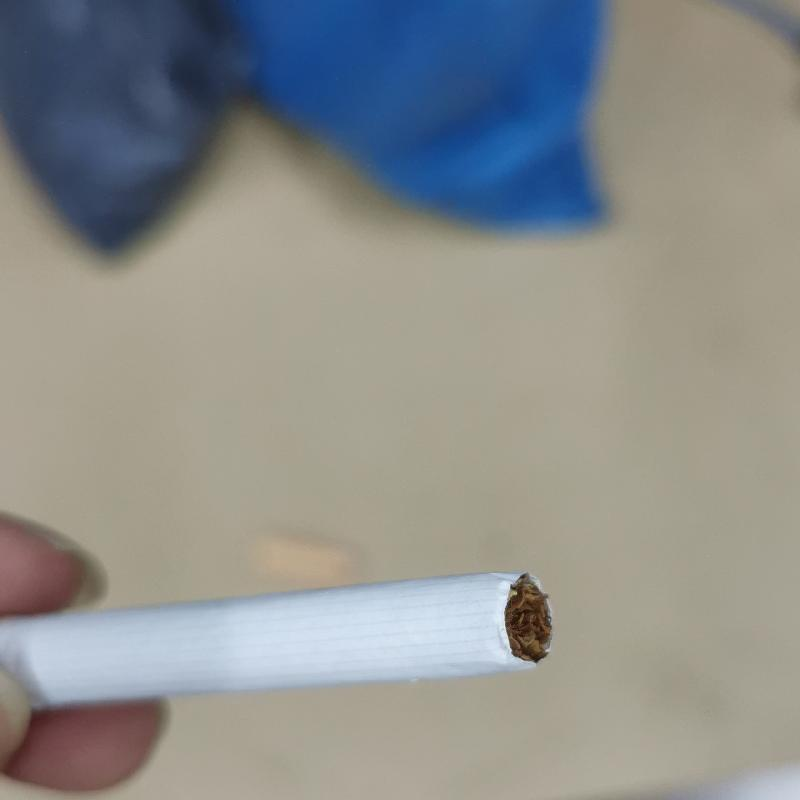cigarette: (8, 570, 556, 734)
